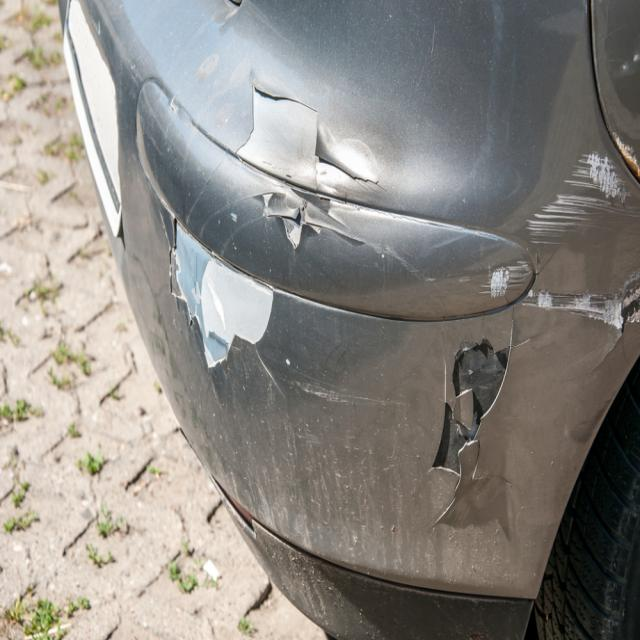scratch: (522, 143, 640, 335)
